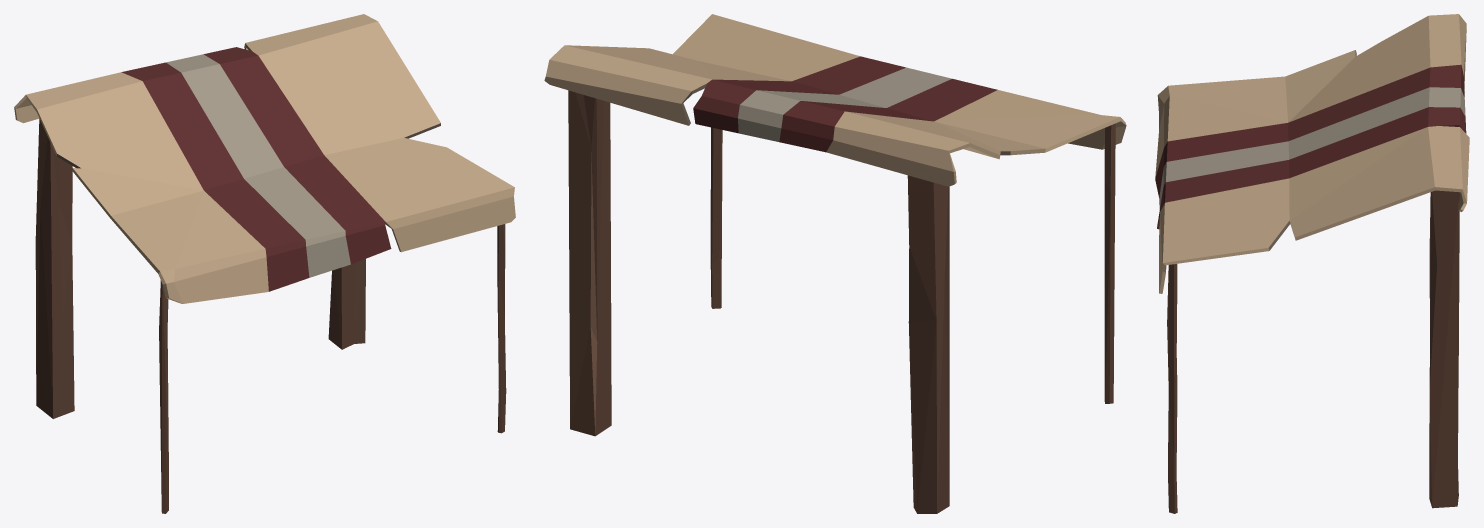
Rendered from Tent_02.glb.
3 renders of one model, left to right at view 1: azimuth 30°, elevation 25°; view 2: azimuth 150°, elevation 25°; view 3: azimuth 270°, elevation 25°, orthographic. The views are drawn at different scales.
Parts seen in each view (by area): view 1: Tent_02; view 2: Tent_02; view 3: Tent_02.
Boxes of the visible parts, <box> form: Tent_02: <box>14,14,515,513</box>; Tent_02: <box>544,14,1126,513</box>; Tent_02: <box>1155,14,1469,513</box>.
Size of what is drawn, in the model's own units: 3.34 by 2.88 by 2.49.
Materials: 1 (1 with a texture image).
